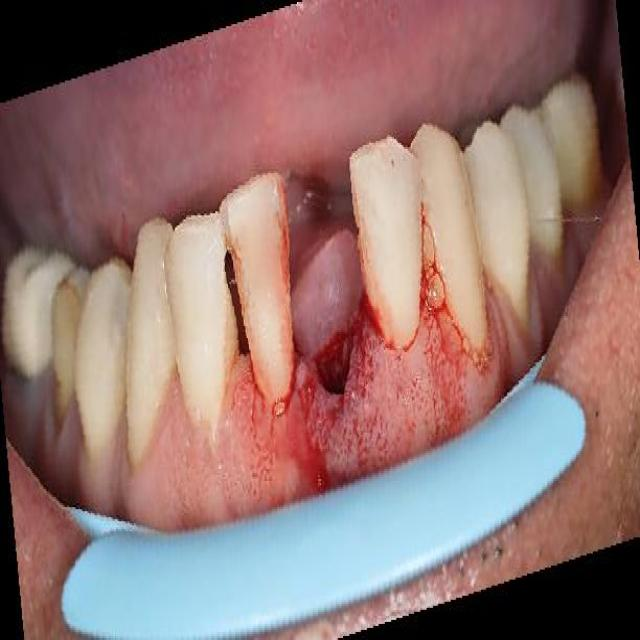caries: (217, 240, 260, 366)
